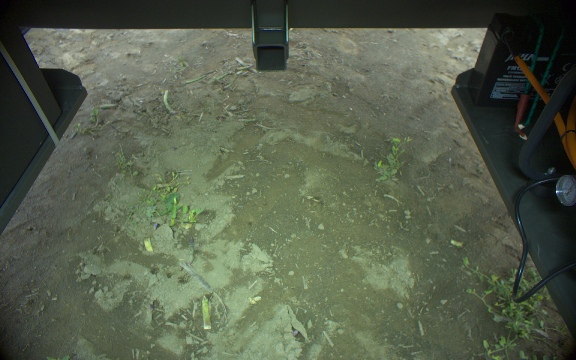aspa: (201, 295, 213, 329)
